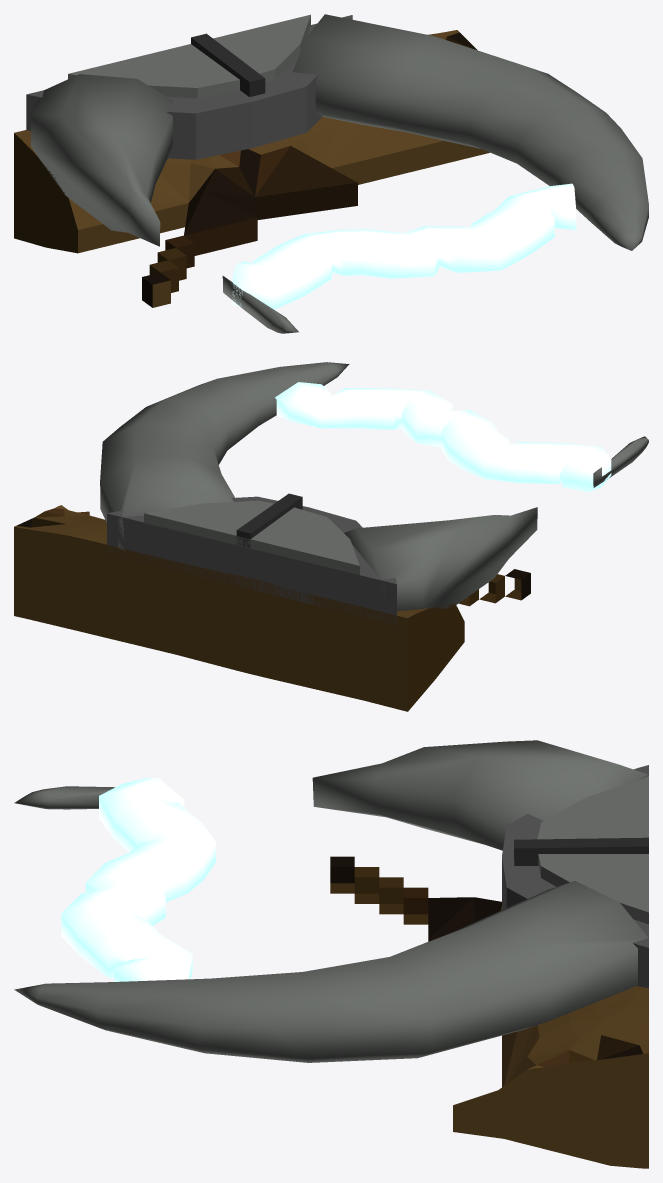
The model's file is newsh-caret-7.glb.
3 views of the same model, one above another, from view 1: azimuth 30°, elevation 25°; view 2: azimuth 150°, elevation 25°; view 3: azimuth 270°, elevation 25° (orthographic). The views are drawn at different scales.
Parts seen in each view (by area): view 1: newsh-caret-7; view 2: newsh-caret-7; view 3: newsh-caret-7.
Part boxes in pixels (box(x1,y1,x2,y2)): newsh-caret-7: box(14, 14, 648, 333); newsh-caret-7: box(14, 362, 648, 711); newsh-caret-7: box(14, 740, 648, 1168).
Bounding box in the file's own units: 2 × 0.6957 × 2.16.
